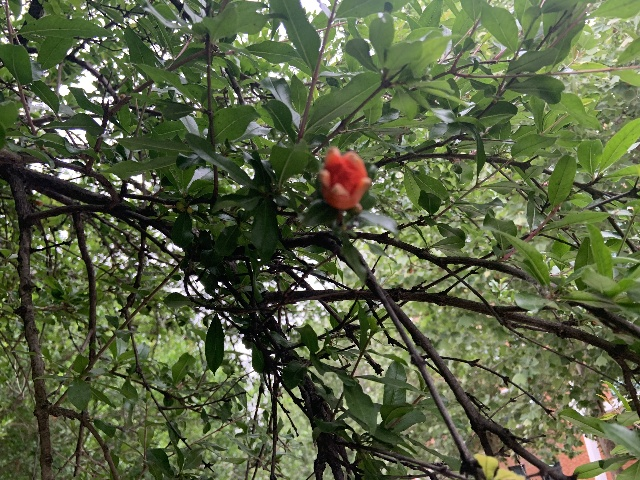flower: (319, 147, 371, 210)
